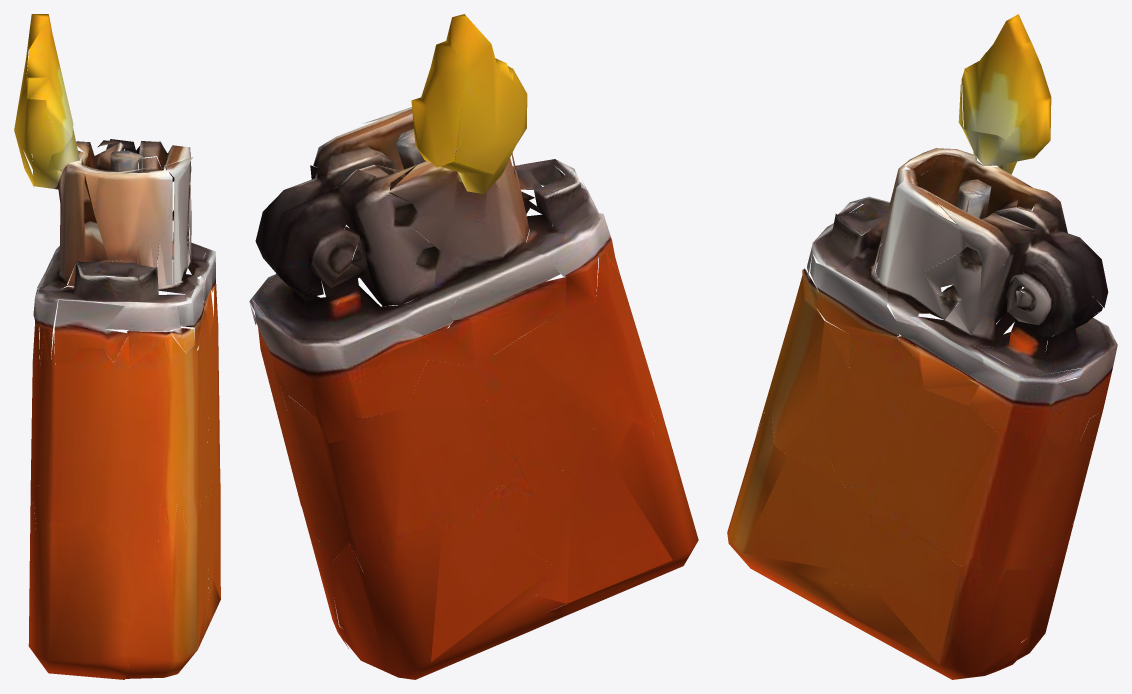
The model's file is lighter.glb.
The picture shows the model from 3 angles, left to right: view 1: azimuth 30°, elevation 25°; view 2: azimuth 150°, elevation 25°; view 3: azimuth 270°, elevation 25°; orthographic projection. The views are drawn at different scales.
Visible parts, largest first — view 1: item; view 2: item; view 3: item.
Boxes of the visible parts, <box> form: item: <box>14,14,220,679</box>; item: <box>249,14,698,679</box>; item: <box>727,14,1117,679</box>.
Size of the model in its own units: 0.0384 by 0.0802 by 0.0468.
1 material, 1 textured.
